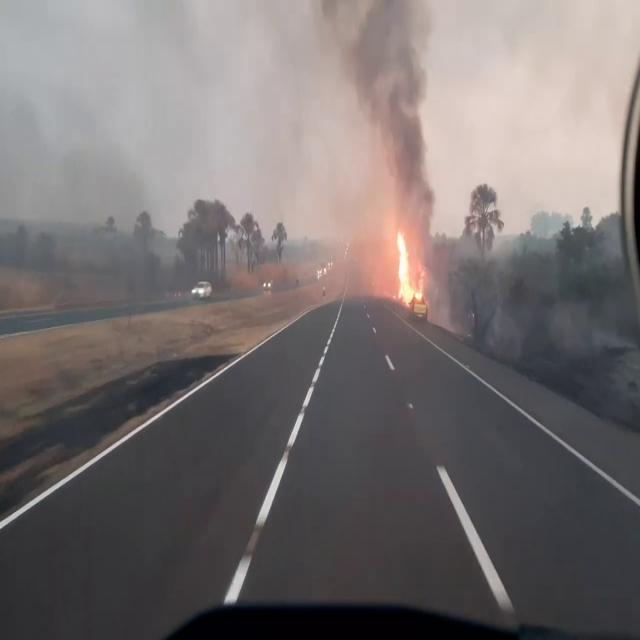Fire: (392, 225, 424, 310)
Smoke: (330, 0, 445, 246)
